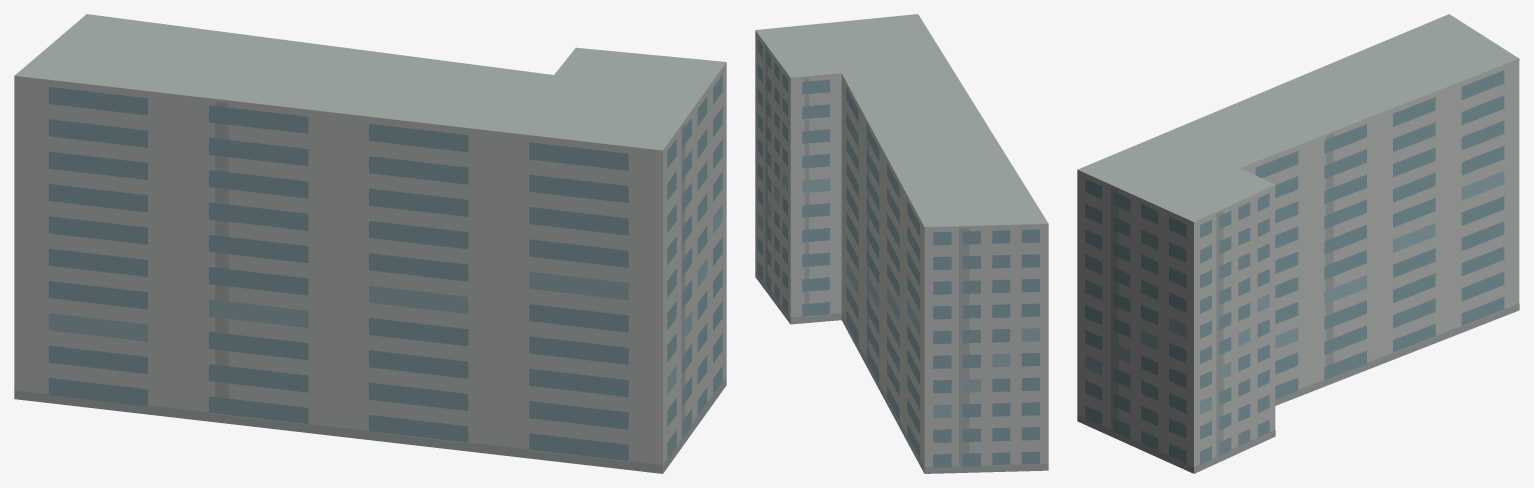
Rendered from residential-11850c08-d3df-42c0-b3fb-48bd7da21101.glb.
The picture shows the model from 3 angles, left to right: view 1: azimuth 30°, elevation 25°; view 2: azimuth 150°, elevation 25°; view 3: azimuth 270°, elevation 25°; orthographic projection. The views are drawn at different scales.
Visible parts, largest first — view 1: residential-11850c08-d3df-42c0-b3fb-48bd7da21101.tmp; view 2: residential-11850c08-d3df-42c0-b3fb-48bd7da21101.tmp; view 3: residential-11850c08-d3df-42c0-b3fb-48bd7da21101.tmp.
Boxes of the visible parts, x1,y1,x2,y2 form: residential-11850c08-d3df-42c0-b3fb-48bd7da21101.tmp: [14, 14, 726, 473]; residential-11850c08-d3df-42c0-b3fb-48bd7da21101.tmp: [755, 14, 1048, 473]; residential-11850c08-d3df-42c0-b3fb-48bd7da21101.tmp: [1077, 14, 1519, 473].
Bounding box in the file's own units: 54.11 × 30.5 × 48.54.
